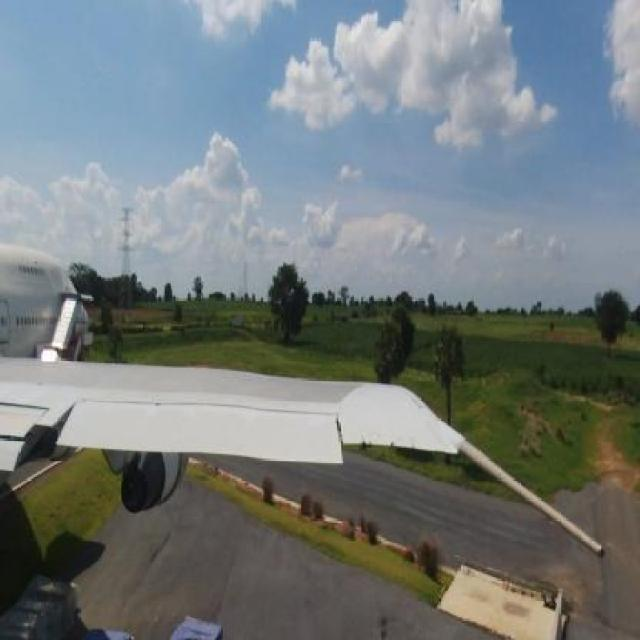Scartch: (408, 388, 428, 422)
